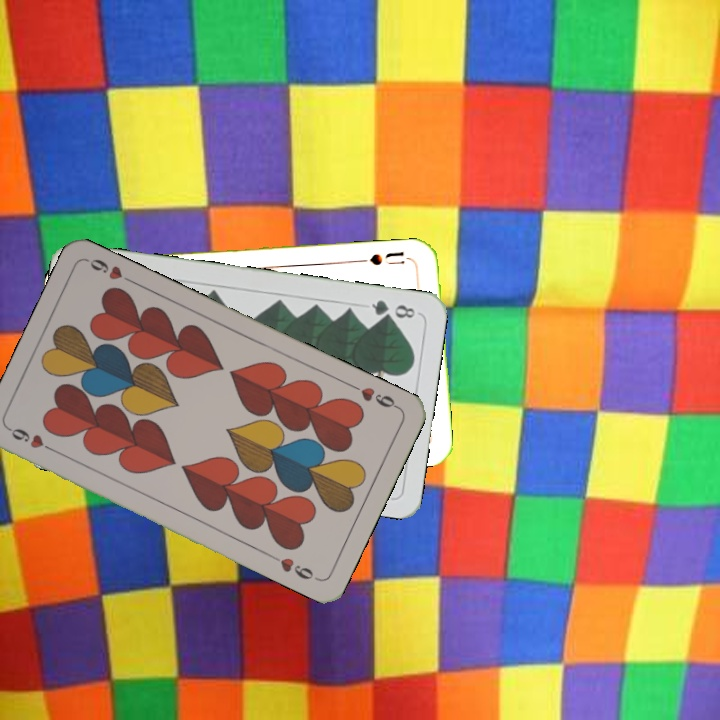G8: (367, 295, 418, 321)
H9: (346, 380, 402, 412), (5, 424, 60, 456)
SU: (366, 249, 416, 268)
